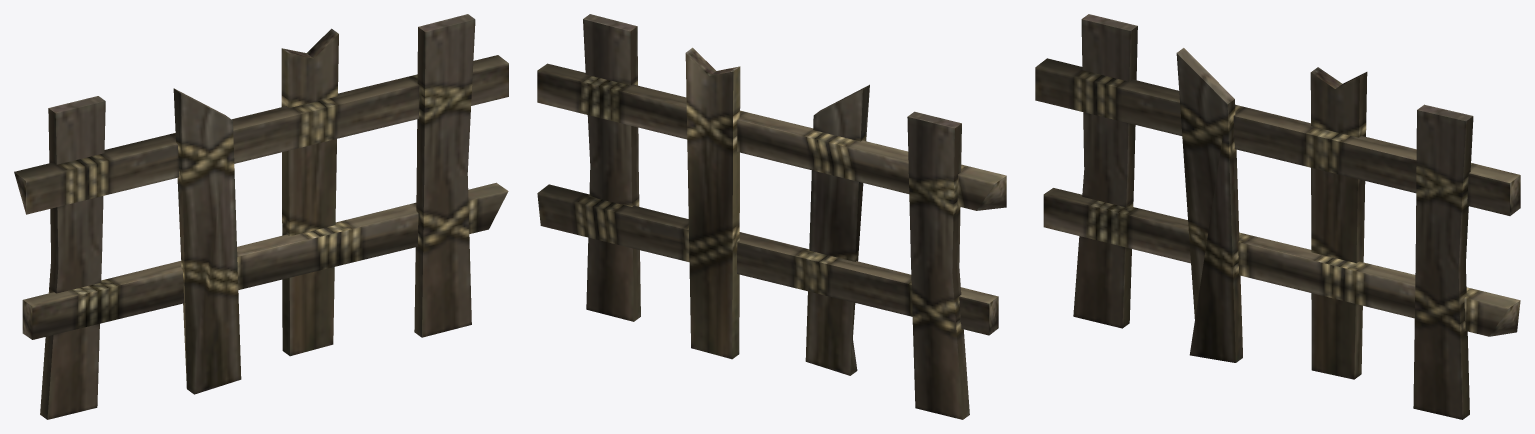
File: DN_lv2_hczl04.FBX
3 renders of one model, left to right at view 1: azimuth 30°, elevation 25°; view 2: azimuth 150°, elevation 25°; view 3: azimuth 330°, elevation 25°, orthographic. The views are drawn at different scales.
Parts seen in each view (by area): view 1: DN_lv2_hczl04; view 2: DN_lv2_hczl04; view 3: DN_lv2_hczl04.
Boxes of the visible parts, box(x1,y1,x2,y2) form: DN_lv2_hczl04: box(14, 14, 508, 419); DN_lv2_hczl04: box(537, 14, 1006, 419); DN_lv2_hczl04: box(1035, 14, 1520, 419).
Size of the model in its own units: 211 by 131 by 16.38.
